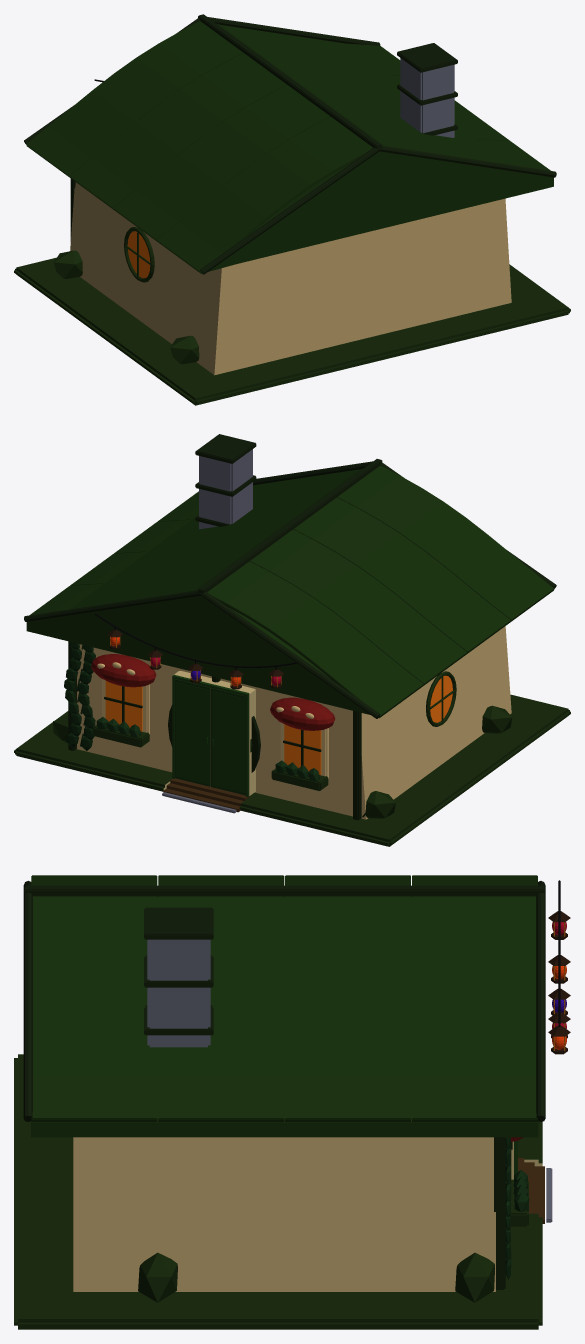
File: fairy-lantern-cottage-visual.obj
3 views of the same model, one above another, from view 1: azimuth 30°, elevation 25°; view 2: azimuth 150°, elevation 25°; view 3: azimuth 270°, elevation 25° (orthographic). The views are drawn at different scales.
Visible parts, largest first — view 1: Bowed_moss_roof, CottageShell, Foundation_01, Chimney, GroundGarden, SideWindow; view 2: Bowed_moss_roof, CottageShell, Foundation_01, Windows, Chimney, HouseDoorLeaf_L_Panel, HouseDoorLeaf_R_Panel, Ivy, GroundGarden, SideWindow, LanternFrames, RoundDoor (+2 smaller); view 3: Bowed_moss_roof, CottageShell, Foundation_01, Chimney, GroundGarden, LanternFrames, Windows, Ivy, WalkApproach0.
Boxes of the visible parts, x1,y1,x2,y2 form: Bowed_moss_roof: (24, 14, 556, 274); CottageShell: (70, 178, 511, 375); Foundation_01: (14, 257, 570, 405); Chimney: (397, 43, 457, 137); GroundGarden: (53, 250, 199, 364); SideWindow: (124, 227, 154, 282); Bowed_moss_roof: (24, 459, 556, 718); CottageShell: (68, 626, 511, 820); Foundation_01: (14, 694, 570, 846); Windows: (91, 654, 335, 790); Chimney: (195, 434, 256, 529); HouseDoorLeaf_L_Panel: (175, 682, 208, 784); HouseDoorLeaf_R_Panel: (212, 691, 244, 793); Ivy: (64, 641, 95, 750); GroundGarden: (53, 705, 512, 818); SideWindow: (426, 671, 456, 726); LanternFrames: (107, 629, 283, 689); RoundDoor: (168, 705, 260, 772); Bowed_moss_roof: (23, 875, 545, 1137); CottageShell: (73, 1137, 505, 1291); Foundation_01: (14, 1054, 542, 1329); Chimney: (144, 907, 213, 1047); GroundGarden: (138, 1252, 494, 1302); LanternFrames: (548, 911, 570, 1054); Windows: (510, 1137, 529, 1226); Ivy: (505, 1137, 511, 1279); WalkApproach0: (534, 1166, 544, 1223).
Size of the model in its own units: 42 by 25.44 by 36.88.
